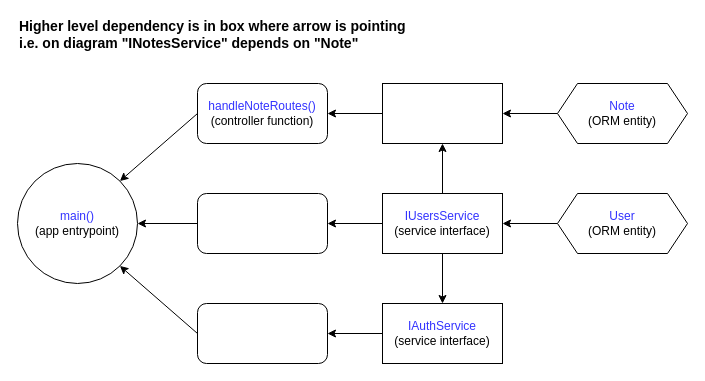
The diagram is 705 pixels wide and 381 high, and some of its shapes have lost their labels. The centre of each missing label's shape, as x and y in pixels:
"handleAuthRoutes() (controller function)" belongs at point (262, 333).
"handleUserRoutes() (controller function)" belongs at point (262, 223).
"INotesService (service interface)" belongs at point (442, 113).
